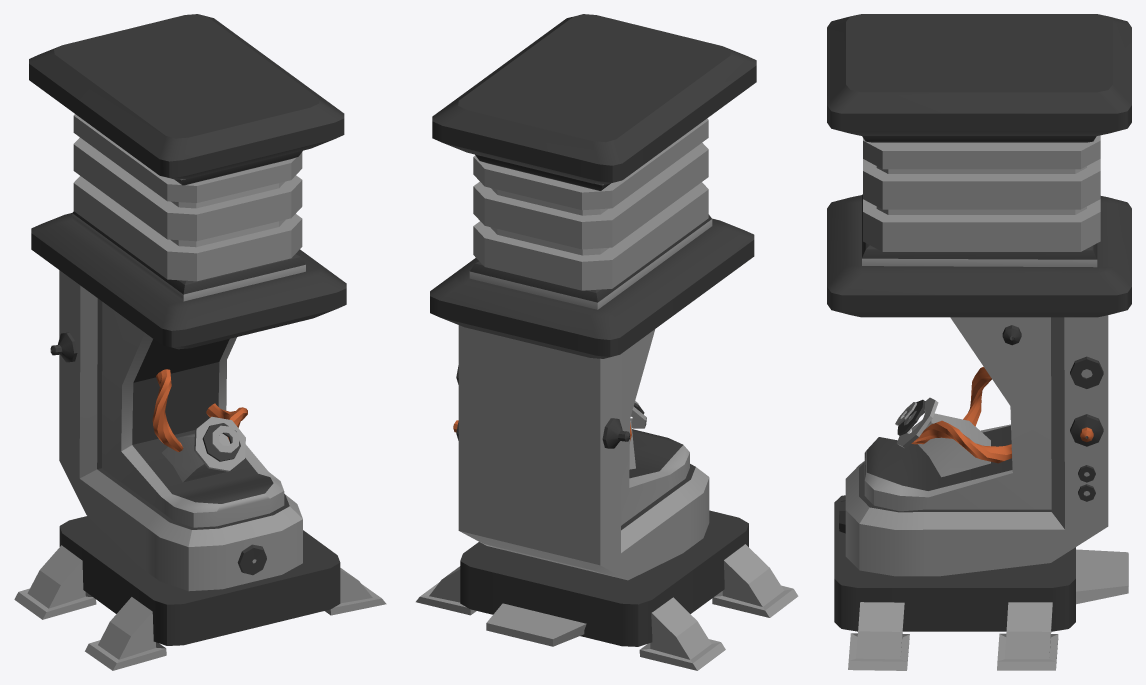
File: Generator_Asset.fbx
3 renders of one model, left to right at view 1: azimuth 30°, elevation 25°; view 2: azimuth 150°, elevation 25°; view 3: azimuth 270°, elevation 25°, orthographic. The views are drawn at different scales.
Parts seen in each view (by area): view 1: Generator_Asset; view 2: Generator_Asset; view 3: Generator_Asset.
Part boxes in pixels (left/top/right/bottom): Generator_Asset: left=14, top=14, right=386, bottom=670; Generator_Asset: left=416, top=14, right=798, bottom=670; Generator_Asset: left=827, top=14, right=1131, bottom=670.
Bounding box in the file's own units: 149 × 268 × 136.
